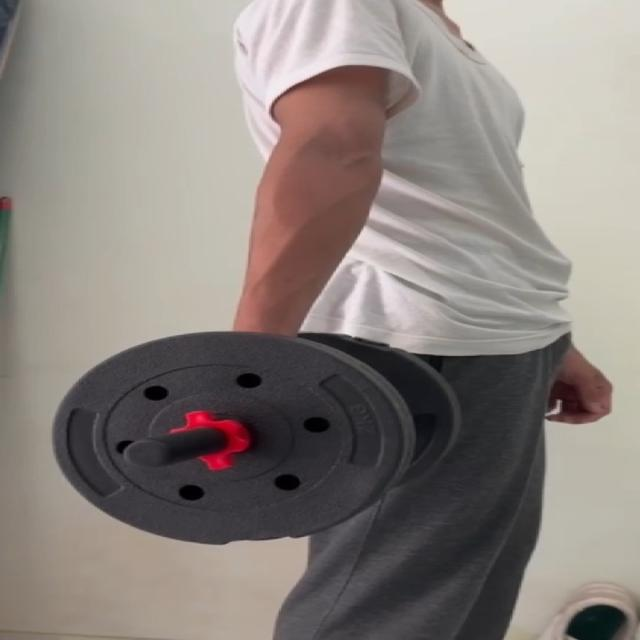dumbbell: (47, 328, 466, 544)
